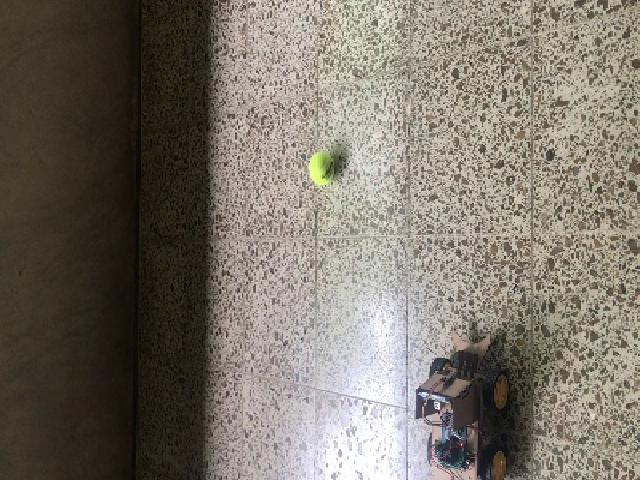Ball: (306, 152, 334, 185)
Robot: (414, 329, 512, 479)
